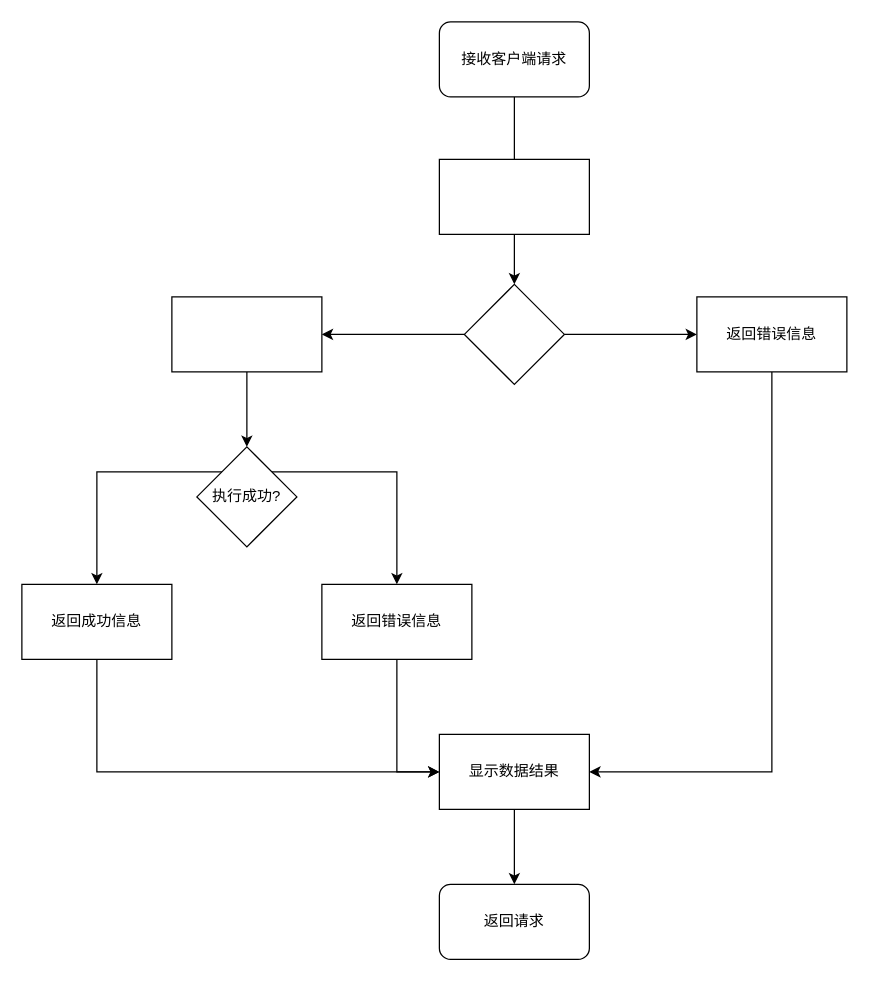
This 869x981 diagram has some shape labels left out. The shapes that lost their labels are listed below. From the top down, each one's centre as x and y in pixels, then its label:
pixel 513 196: 建立数据库连接
pixel 246 334: 执行SQL语句
pixel 513 333: 连接成功?
